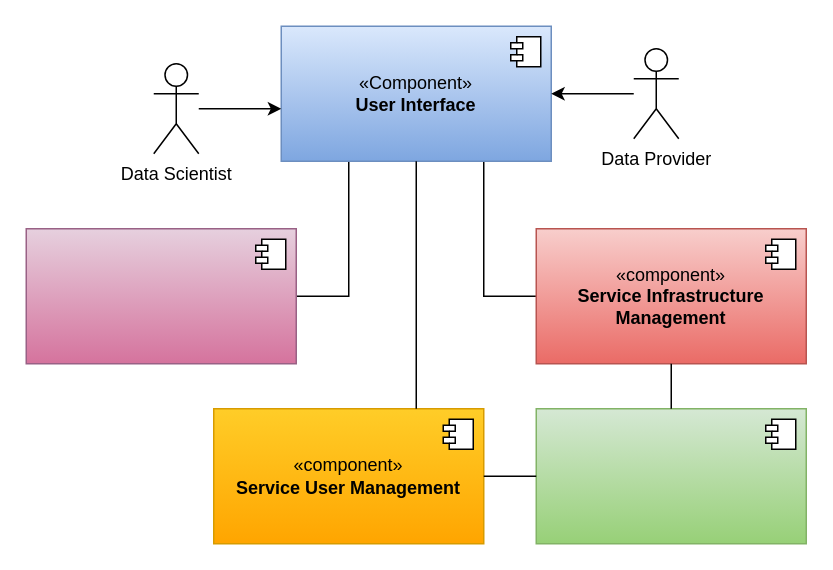
Some shapes in this 833 by 570 pixel diagram are drawn without their labels. Each missing label, with the centre of its shape:
"«component» Data Base" goes at pixel 670 475.
"«component» Service FL Training and Aggregation" goes at pixel 160 295.
